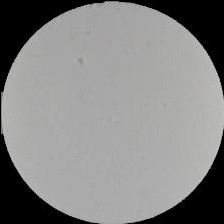52125-659: (0, 0, 224, 224)
